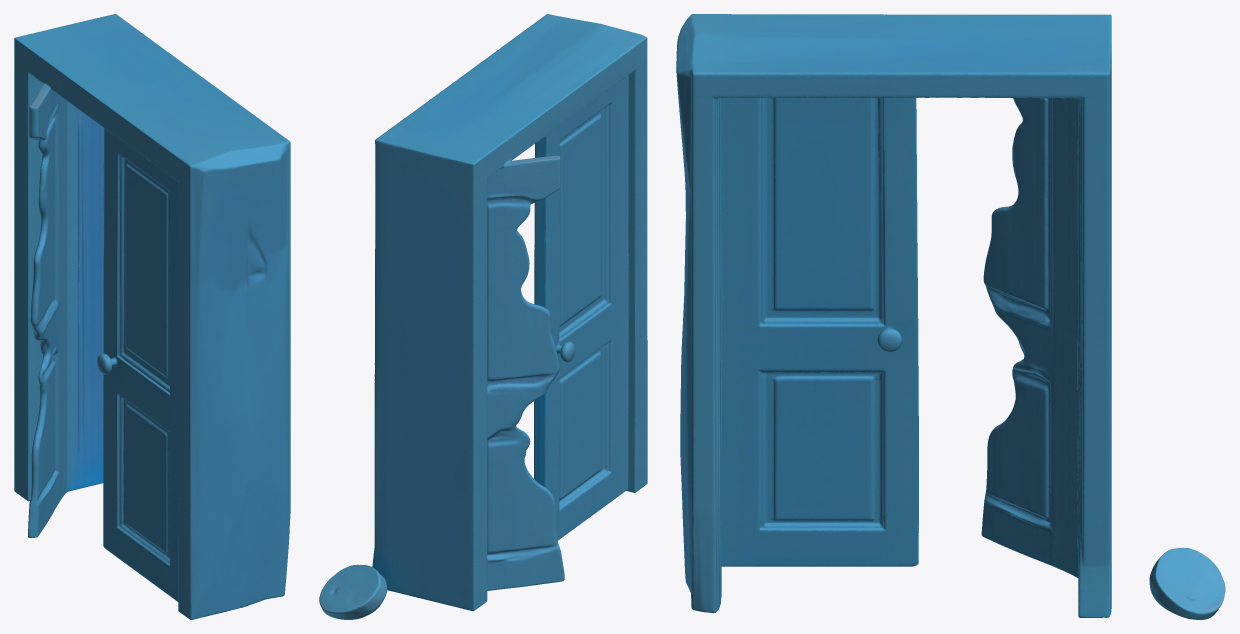
File: Meme3_3d_brokendoor.fbx
3 views of the same model, side by side, from view 1: azimuth 30°, elevation 25°; view 2: azimuth 150°, elevation 25°; view 3: azimuth 270°, elevation 25° (orthographic). The views are drawn at different scales.
Parts seen in each view (by area): view 1: node_0aa9b96b_af34_4c3f_bda5_79c51779d7b4_mesh0; view 2: node_0aa9b96b_af34_4c3f_bda5_79c51779d7b4_mesh0; view 3: node_0aa9b96b_af34_4c3f_bda5_79c51779d7b4_mesh0.
Part boxes in pixels (box(x1,y1,x2,y2)): node_0aa9b96b_af34_4c3f_bda5_79c51779d7b4_mesh0: box(14, 14, 290, 619); node_0aa9b96b_af34_4c3f_bda5_79c51779d7b4_mesh0: box(319, 14, 647, 619); node_0aa9b96b_af34_4c3f_bda5_79c51779d7b4_mesh0: box(676, 14, 1225, 619).
Size of the model in its own units: 36.75 by 100 by 90.44.
Materials: 1 (1 with a texture image).
